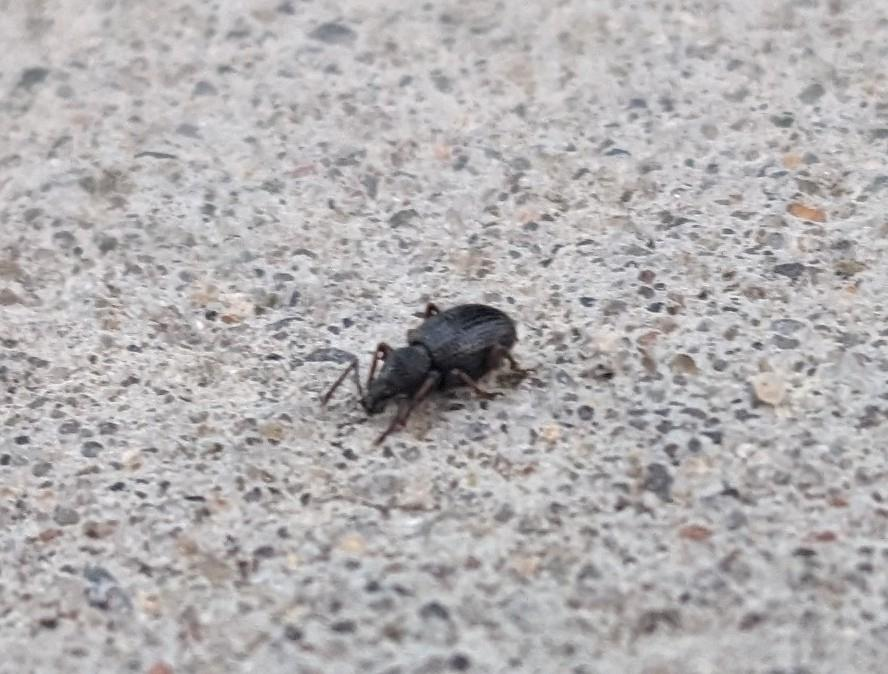weevils: (280, 268, 565, 459)
